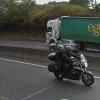Motorcycle: (38, 42, 100, 87)
